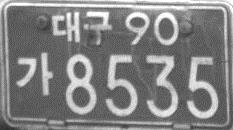0: (154, 11, 179, 47)
3: (144, 53, 179, 119)
5: (104, 53, 138, 118), (187, 55, 219, 120)
8: (64, 53, 97, 115)
9: (123, 11, 151, 46)
가: (15, 52, 54, 97)
대구_O: (49, 10, 112, 47)
